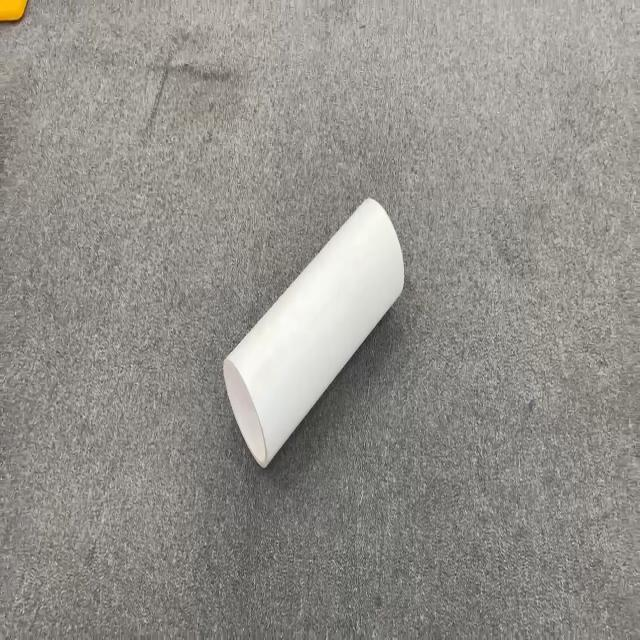coral: (222, 194, 405, 468)
